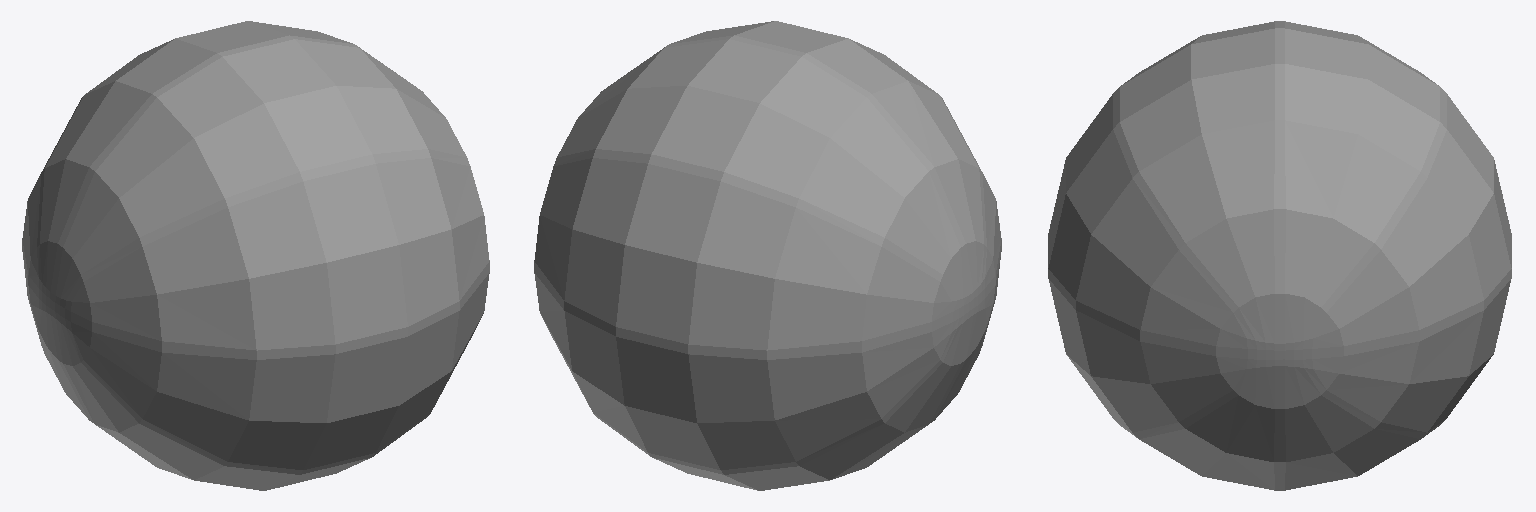
Rendered from ball.obj.
3 renders of one model, left to right at view 1: azimuth 30°, elevation 25°; view 2: azimuth 150°, elevation 25°; view 3: azimuth 270°, elevation 25°, orthographic.
Parts seen in each view (by area): view 1: Sphere; view 2: Sphere; view 3: Sphere.
Part boxes in pixels (x1,y1,x2,y2): Sphere: (22, 21, 489, 490); Sphere: (534, 21, 1001, 490); Sphere: (1048, 21, 1511, 490).
Size of the model in its own units: 1.11 by 1.09 by 1.09.